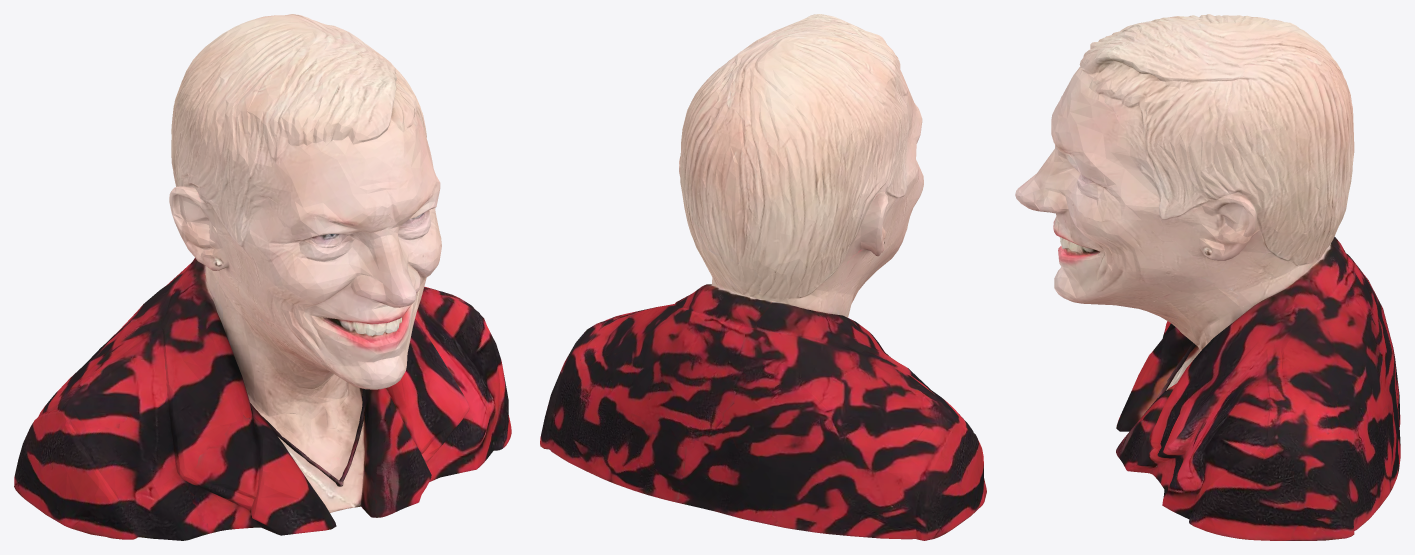
File: face_small.glb
3 renders of one model, left to right at view 1: azimuth 30°, elevation 25°; view 2: azimuth 150°, elevation 25°; view 3: azimuth 270°, elevation 25°, orthographic. The views are drawn at different scales.
Parts seen in each view (by area): view 1: model; view 2: model; view 3: model.
Boxes of the visible parts, left/top/right/bottom form: model: left=14, top=14, right=511, bottom=540; model: left=540, top=14, right=986, bottom=540; model: left=1015, top=14, right=1400, bottom=540.
Size of the model in its own units: 1.79 by 1.71 by 1.42.
Materials: 1 (1 with a texture image).
